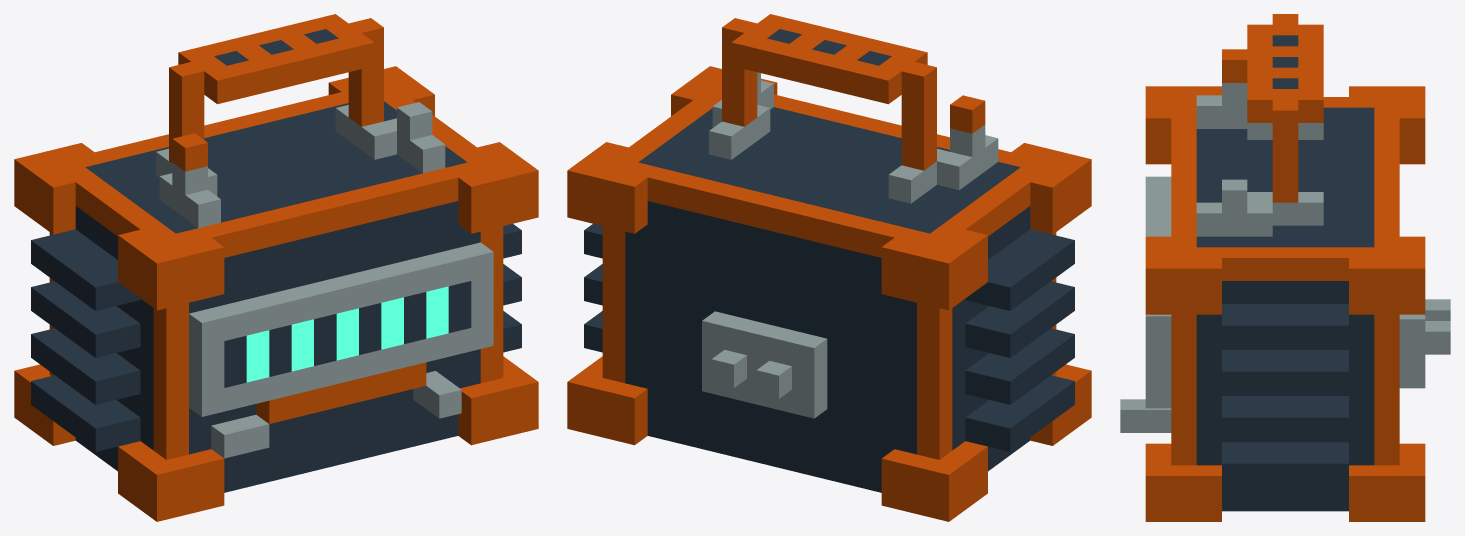
Rendered from Portable Battery.glb.
The picture shows the model from 3 angles, left to right: view 1: azimuth 30°, elevation 25°; view 2: azimuth 150°, elevation 25°; view 3: azimuth 270°, elevation 25°; orthographic projection. The views are drawn at different scales.
Visible parts, largest first — view 1: Bateria_Portatil_Voxel; view 2: Bateria_Portatil_Voxel; view 3: Bateria_Portatil_Voxel.
Part boxes in pixels (x1=…): Bateria_Portatil_Voxel: x1=14, y1=14, x2=538, y2=521; Bateria_Portatil_Voxel: x1=567, y1=14, x2=1091, y2=521; Bateria_Portatil_Voxel: x1=1120, y1=14, x2=1450, y2=521.
Size of the model in its own units: 1.9 by 1.6 by 1.3.
